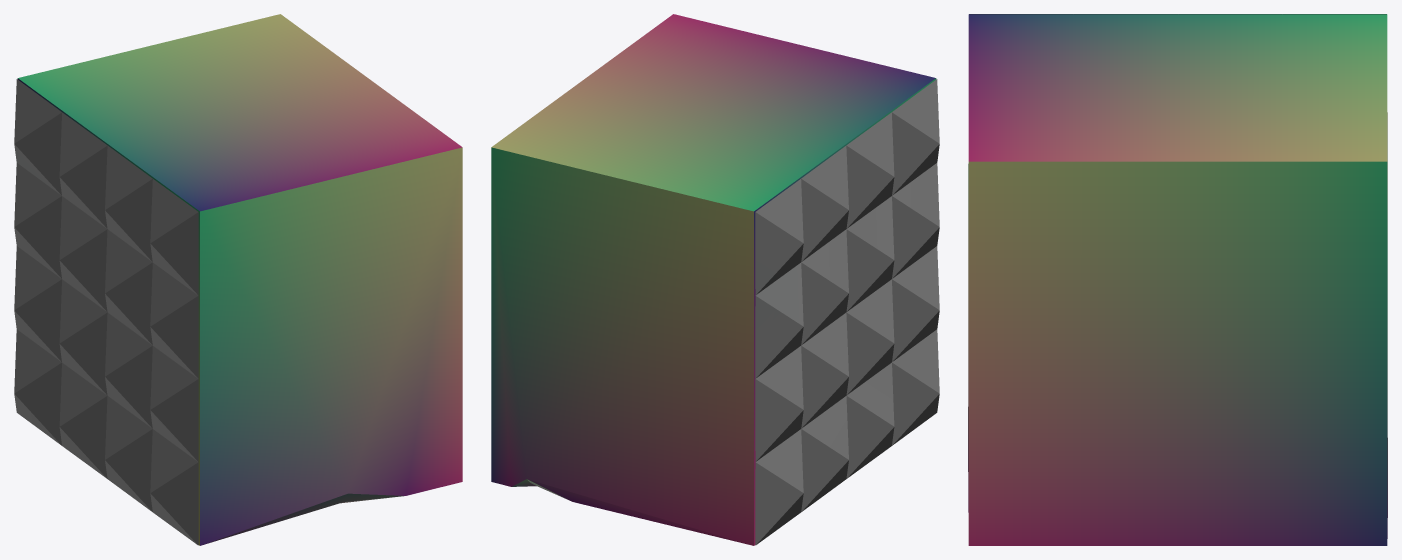
Rendered from Eff_Ben_Weapon_01.fbx.
3 views of the same model, side by side, from view 1: azimuth 30°, elevation 25°; view 2: azimuth 150°, elevation 25°; view 3: azimuth 270°, elevation 25° (orthographic). The views are drawn at different scales.
Parts seen in each view (by area): view 1: Eff_Ben_Weapon_01; view 2: Eff_Ben_Weapon_01; view 3: Eff_Ben_Weapon_01.
Part boxes in pixels (x1,y1,x2,y2): Eff_Ben_Weapon_01: (14, 14, 462, 545); Eff_Ben_Weapon_01: (491, 14, 939, 545); Eff_Ben_Weapon_01: (968, 14, 1387, 545).
Bounding box in the file's own units: 0.3699 × 0.4091 × 0.4044.
